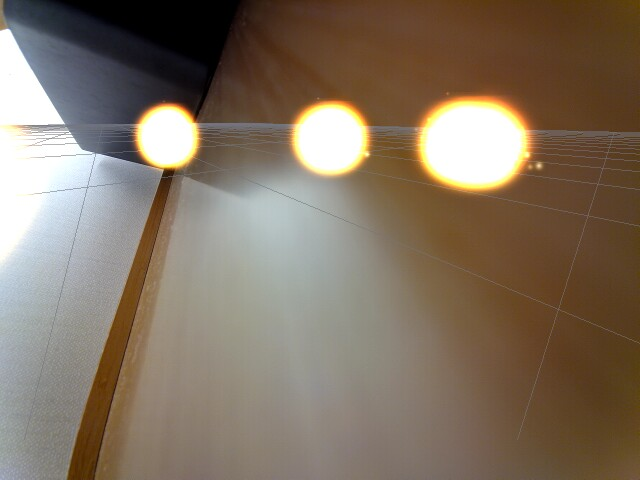firebig: (403, 85, 538, 204)
